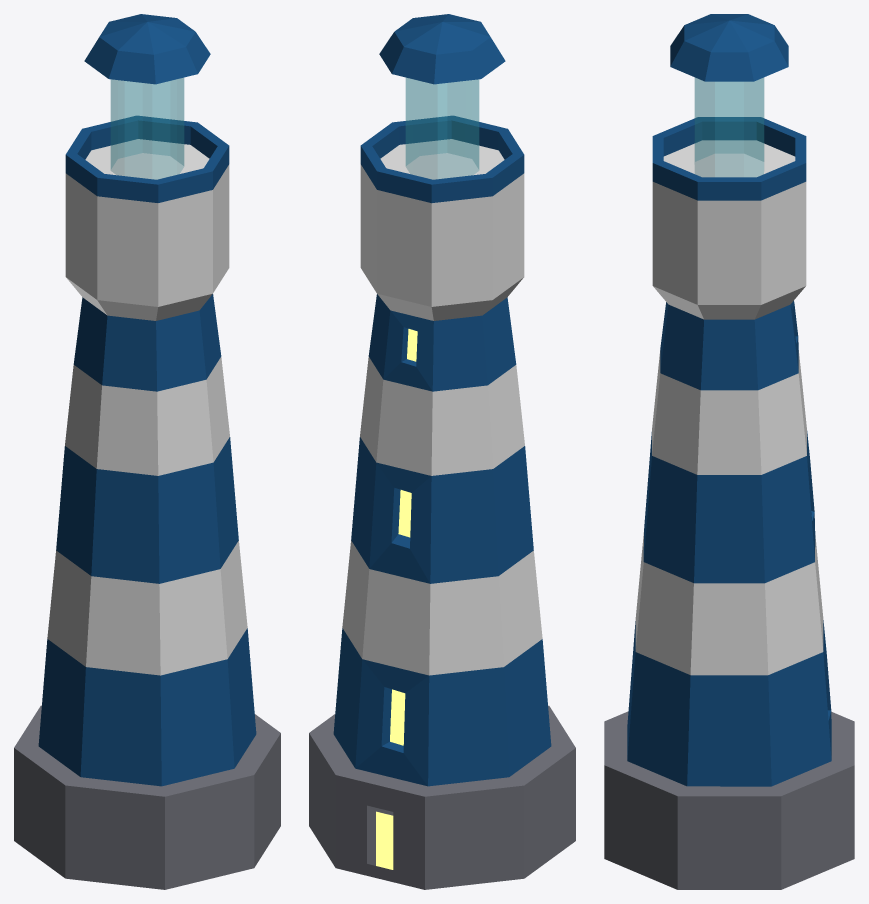
Rendered from blue_lighthouse_fixed.fbx.
The picture shows the model from 3 angles, left to right: view 1: azimuth 30°, elevation 25°; view 2: azimuth 150°, elevation 25°; view 3: azimuth 270°, elevation 25°; orthographic projection.
Parts seen in each view (by area): view 1: phare bleu; view 2: phare bleu; view 3: phare bleu.
Part boxes in pixels (left/top/right/bottom): phare bleu: left=14, top=14, right=280, bottom=889; phare bleu: left=309, top=14, right=575, bottom=889; phare bleu: left=604, top=14, right=854, bottom=889.
Size of the model in its own units: 180 by 648 by 180.
